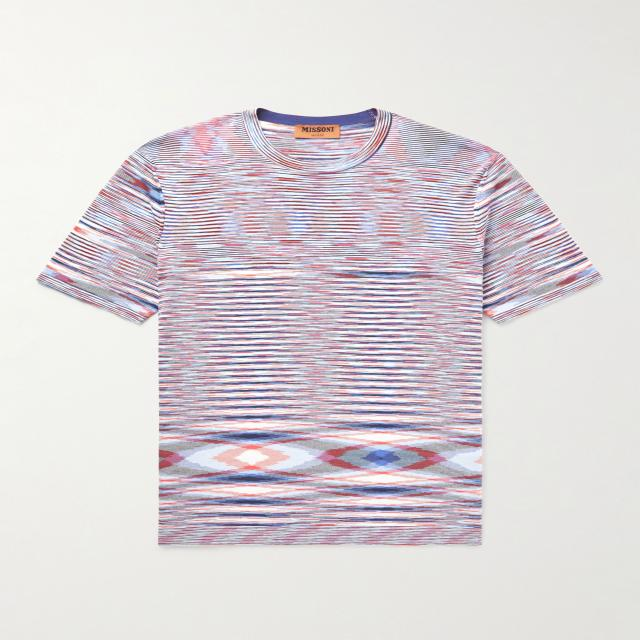tshirt: (35, 105, 602, 550)
